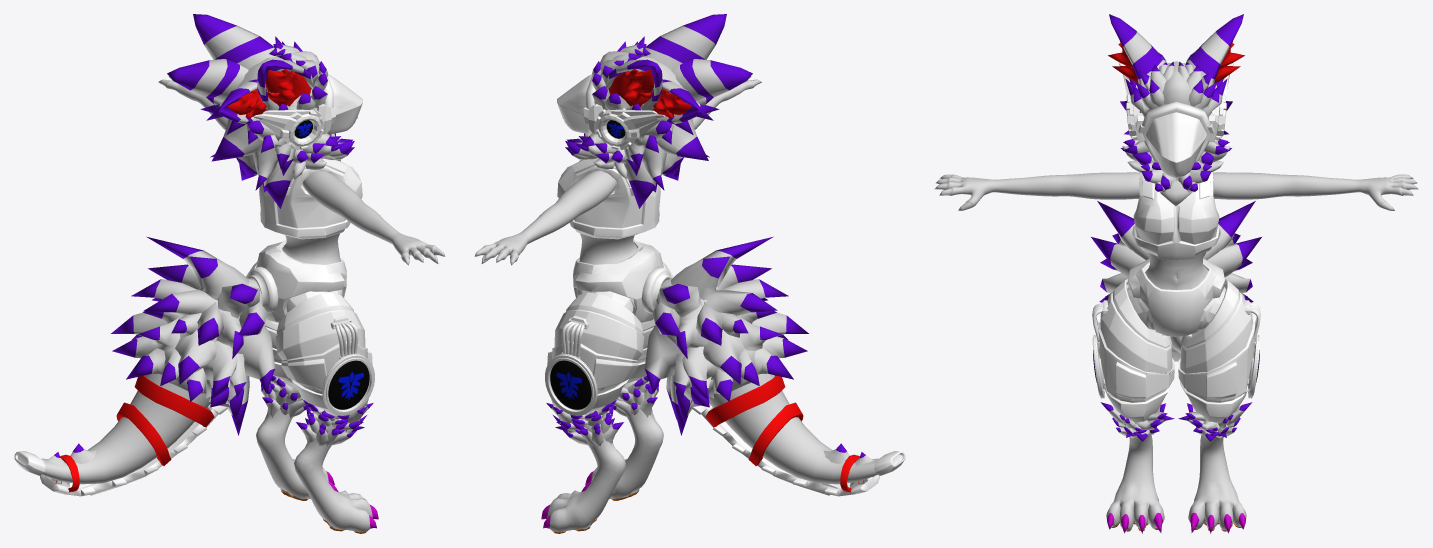
Rendered from Modeling_scale_ref_character.fbx.
The picture shows the model from 3 angles, left to right: view 1: azimuth 30°, elevation 25°; view 2: azimuth 150°, elevation 25°; view 3: azimuth 270°, elevation 25°; orthographic projection. The views are drawn at different scales.
Parts seen in each view (by area): view 1: Body_mesh; view 2: Body_mesh; view 3: Body_mesh.
Boxes of the visible parts, x1,y1,x2,y2 form: Body_mesh: (14,14,445,533); Body_mesh: (474,14,905,533); Body_mesh: (934,14,1418,533).
Bounding box in the file's own units: 110 × 141 × 151.
Materials: 5 (1 with a texture image).
